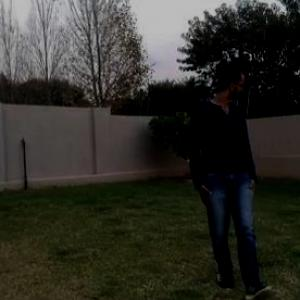follow: (198, 58, 256, 290)
